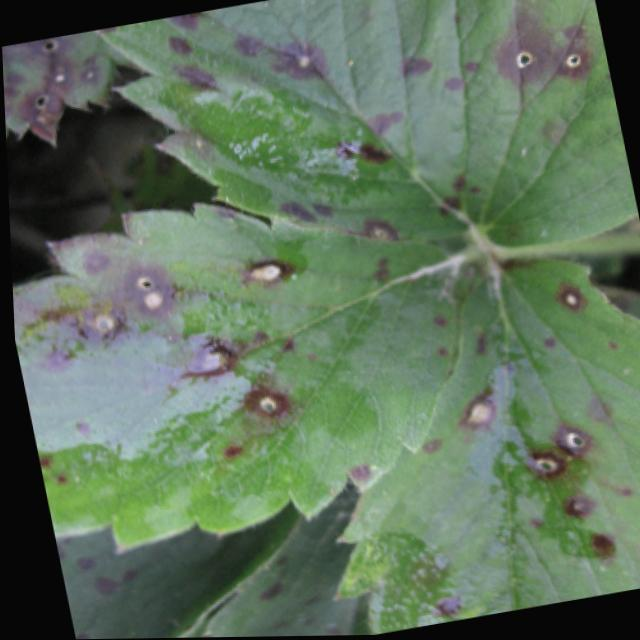Leaf Spot: (10, 202, 482, 559), (95, 0, 637, 253), (330, 256, 640, 636), (49, 502, 292, 639), (195, 473, 365, 638), (2, 31, 146, 151)
